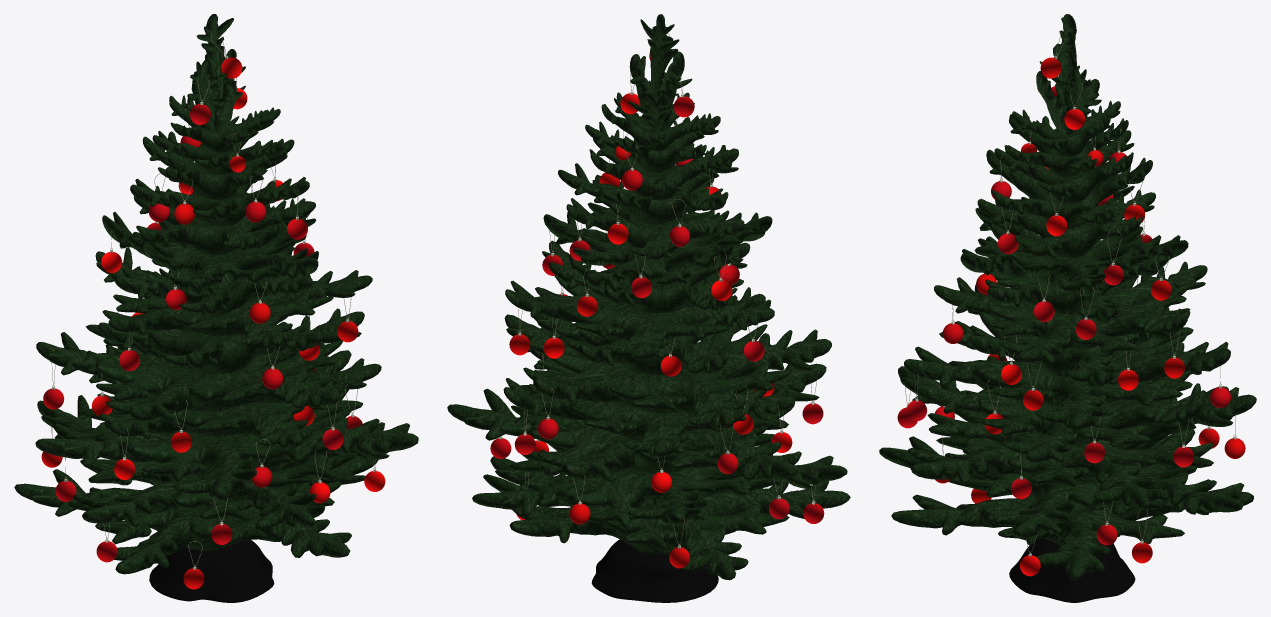
Rendered from xmastree.glb.
3 renders of one model, left to right at view 1: azimuth 30°, elevation 25°; view 2: azimuth 150°, elevation 25°; view 3: azimuth 270°, elevation 25°, orthographic.
Visible parts, largest first — view 1: 12150_Christmas_Tree_V2_L2.001, 12150_Christmas_Tree_V2_L2; view 2: 12150_Christmas_Tree_V2_L2.001, 12150_Christmas_Tree_V2_L2; view 3: 12150_Christmas_Tree_V2_L2.001, 12150_Christmas_Tree_V2_L2.
Boxes of the visible parts, <box> form: 12150_Christmas_Tree_V2_L2.001: <box>14,14,418,574</box>; 12150_Christmas_Tree_V2_L2: <box>41,35,385,602</box>; 12150_Christmas_Tree_V2_L2.001: <box>447,14,850,580</box>; 12150_Christmas_Tree_V2_L2: <box>490,33,824,602</box>; 12150_Christmas_Tree_V2_L2.001: <box>879,14,1256,580</box>; 12150_Christmas_Tree_V2_L2: <box>897,30,1245,602</box>.
Bounding box in the file's own units: 2.07 × 3.35 × 2.04.
8 materials, 1 textured.
